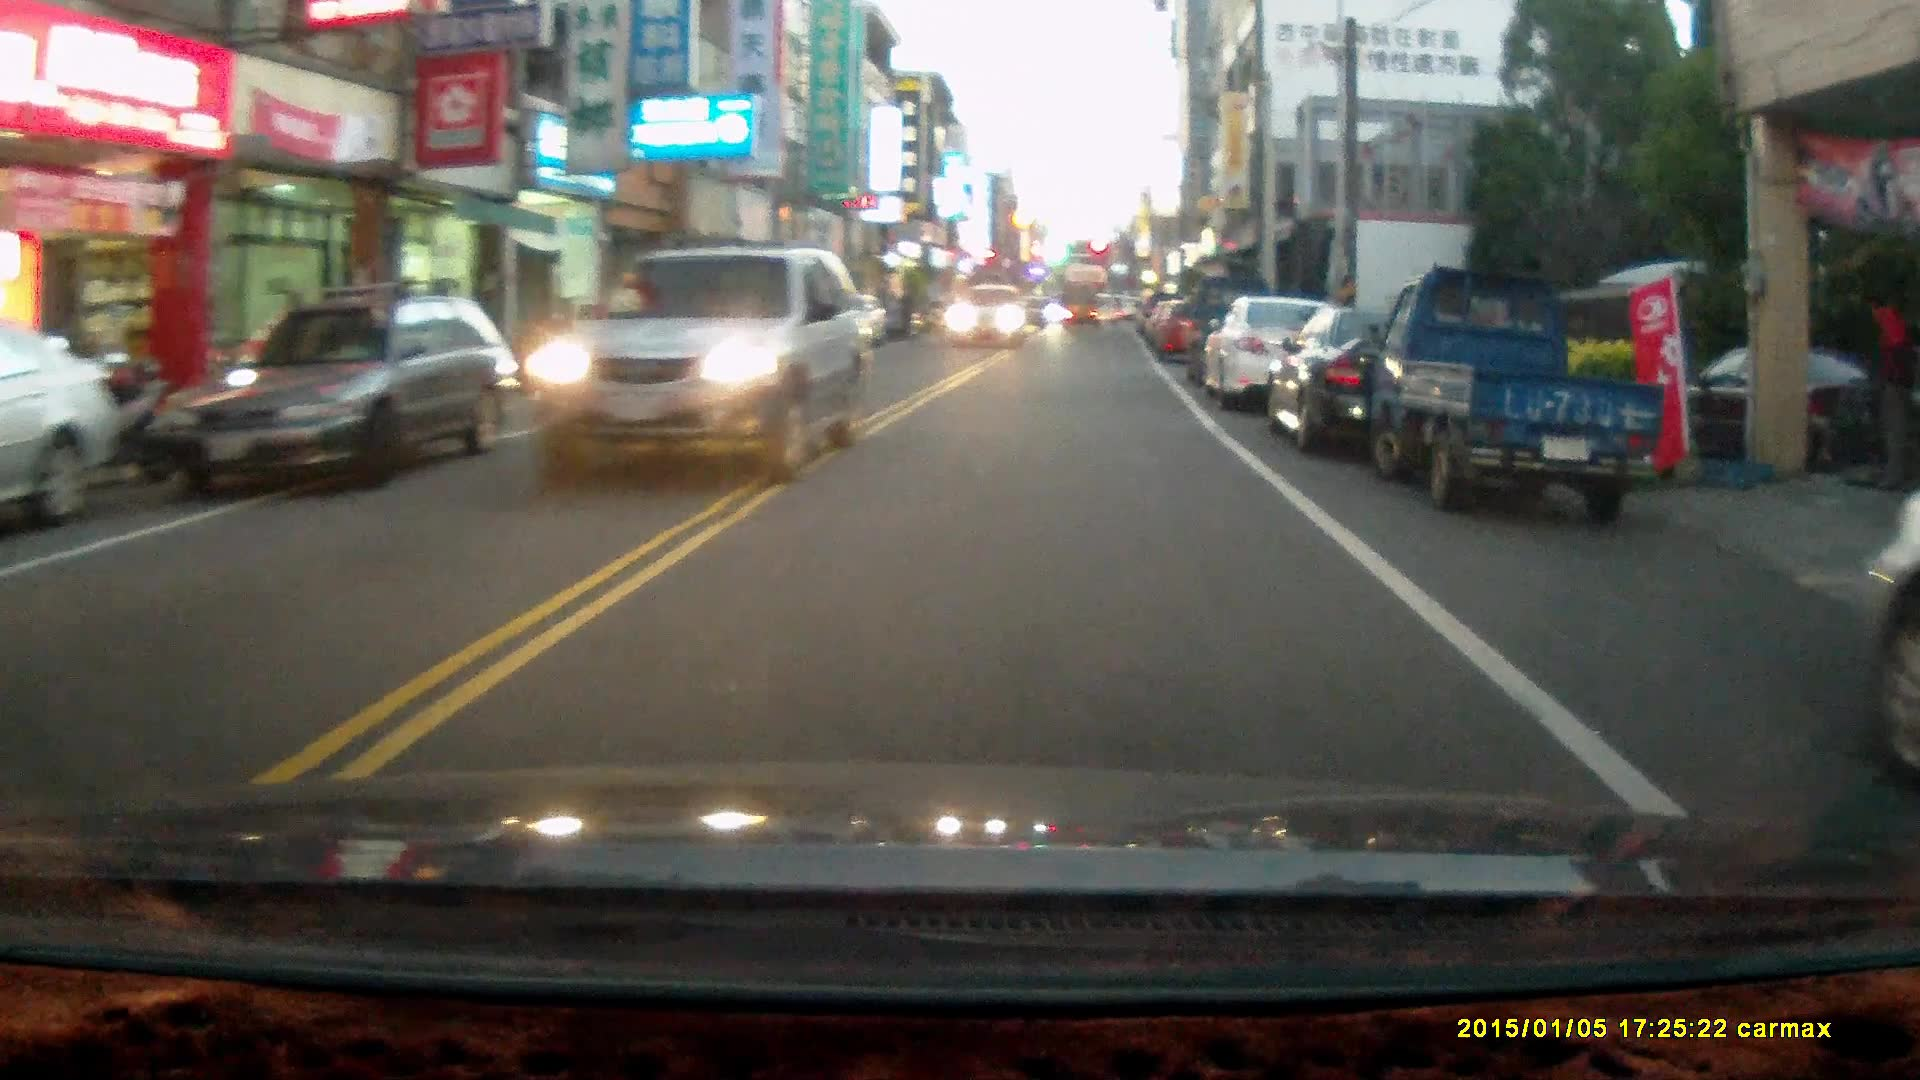pedestrian: (1856, 291, 1916, 493)
vehicle: (527, 240, 881, 483), (1367, 270, 1681, 531), (143, 284, 528, 496), (1272, 309, 1515, 456), (1197, 301, 1358, 413), (948, 286, 1030, 352), (1056, 284, 1100, 334)
